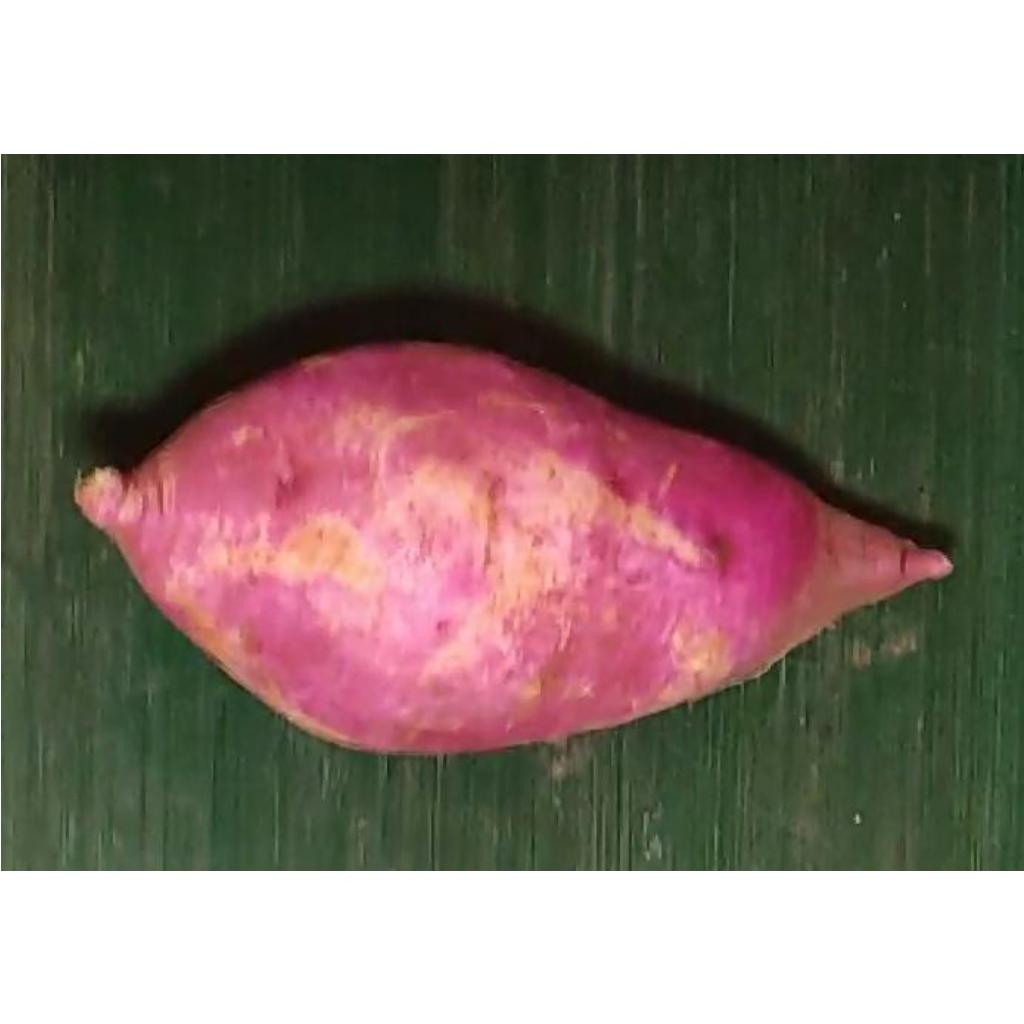Sweet Potato: (72, 340, 953, 756)
